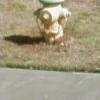Hydrant: (29, 1, 77, 51)
